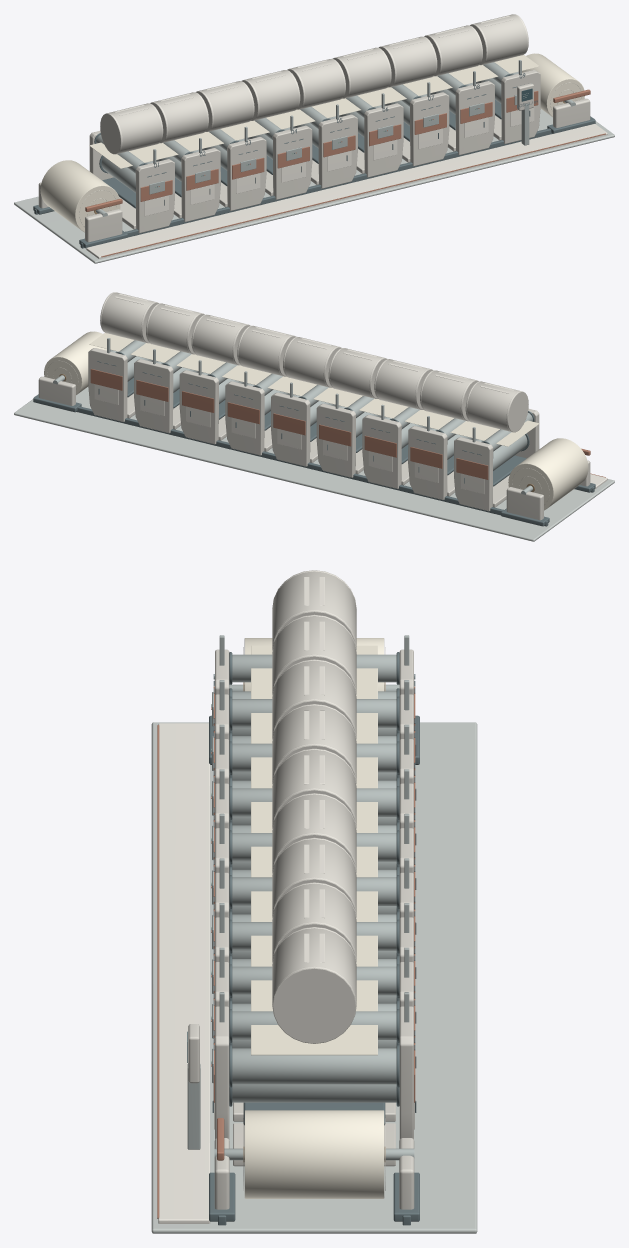
File: bosma-9-clay.glb
The picture shows the model from 3 angles, top to bottom: view 1: azimuth 30°, elevation 25°; view 2: azimuth 150°, elevation 25°; view 3: azimuth 270°, elevation 25°; orthographic projection. The views are drawn at different scales.
Parts seen in each view (by area): view 1: warm porcelain, chalk edges, satin ceramic rollers, ivory paper, muted terracotta band, studio floor, slate recess, UNWIND paper roll · animatable.003, REWIND paper roll · animatable.003; view 2: warm porcelain, studio floor, chalk edges, satin ceramic rollers, ivory paper, muted terracotta band, slate recess, UNWIND paper roll · animatable.003, REWIND paper roll · animatable.003; view 3: warm porcelain, studio floor, satin ceramic rollers, chalk edges, ivory paper, REWIND paper roll · animatable.003, slate recess, muted terracotta band.
Part boxes in pixels (<box>): warm porcelain: <box>38,14,590,242</box>; chalk edges: <box>86,14,607,258</box>; satin ceramic rollers: <box>96,60,575,216</box>; ivory paper: <box>89,55,539,168</box>; muted terracotta band: <box>85,89,605,257</box>; studio floor: <box>14,109,614,263</box>; slate recess: <box>33,73,595,248</box>; UNWIND paper roll · animatable.003: <box>40,160,120,232</box>; REWIND paper roll · animatable.003: <box>522,53,584,116</box>; warm porcelain: <box>38,292,590,523</box>; studio floor: <box>14,387,614,541</box>; chalk edges: <box>94,292,607,493</box>; satin ceramic rollers: <box>53,338,532,494</box>; ivory paper: <box>89,333,539,446</box>; muted terracotta band: <box>90,369,605,479</box>; slate recess: <box>33,352,595,526</box>; UNWIND paper roll · animatable.003: <box>508,438,588,510</box>; REWIND paper roll · animatable.003: <box>44,331,106,394</box>; warm porcelain: <box>188,570,414,1209</box>; studio floor: <box>151,722,477,1233</box>; satin ceramic rollers: <box>187,635,414,1160</box>; chalk edges: <box>158,570,414,1223</box>; ivory paper: <box>251,645,377,1055</box>; REWIND paper roll · animatable.003: <box>244,1110,384,1198</box>; slate recess: <box>209,652,419,1225</box>; muted terracotta band: <box>157,686,415,1218</box>.
Bounding box in the file's own units: 22.9 × 4.45 × 6.2.
